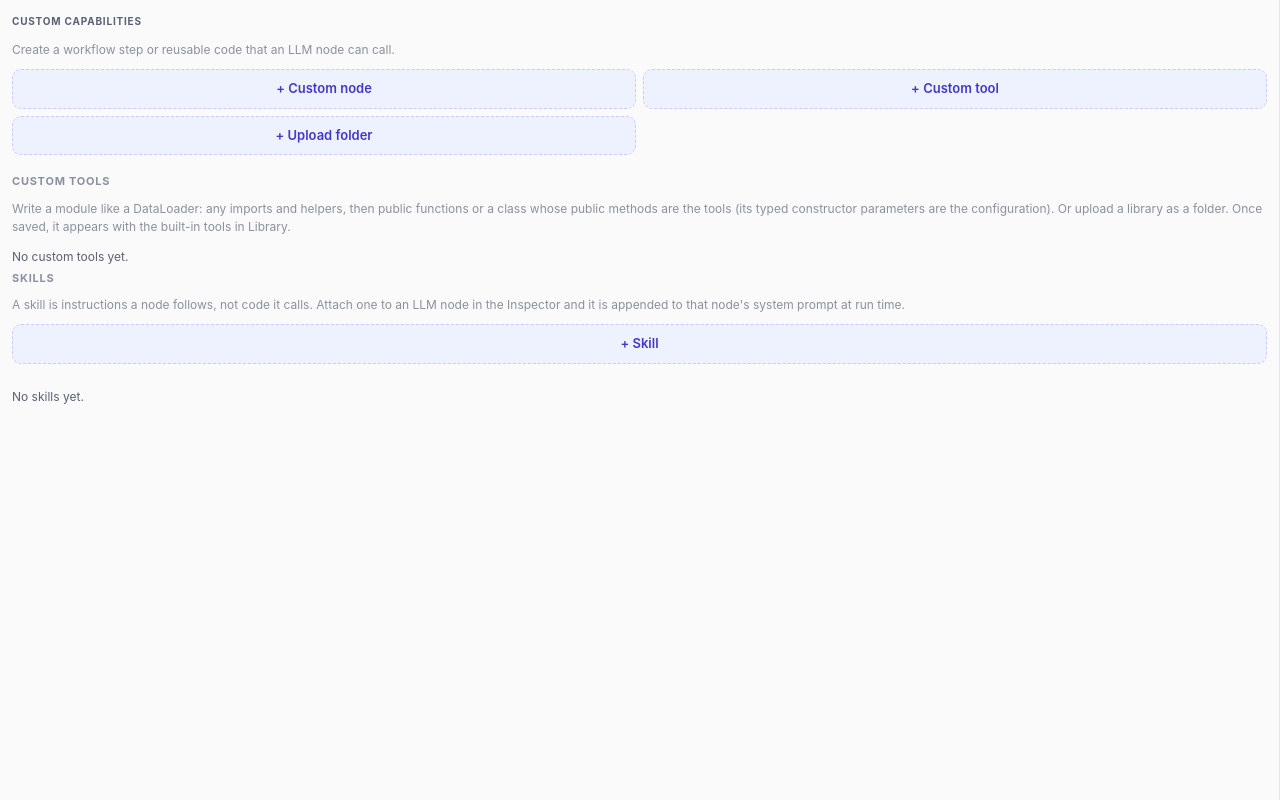
Test case: custom capabilities › offers both a custom node and a custom tool
Click the button "+ Custom node" at coordinates (324, 89), box [12,69,636,108]
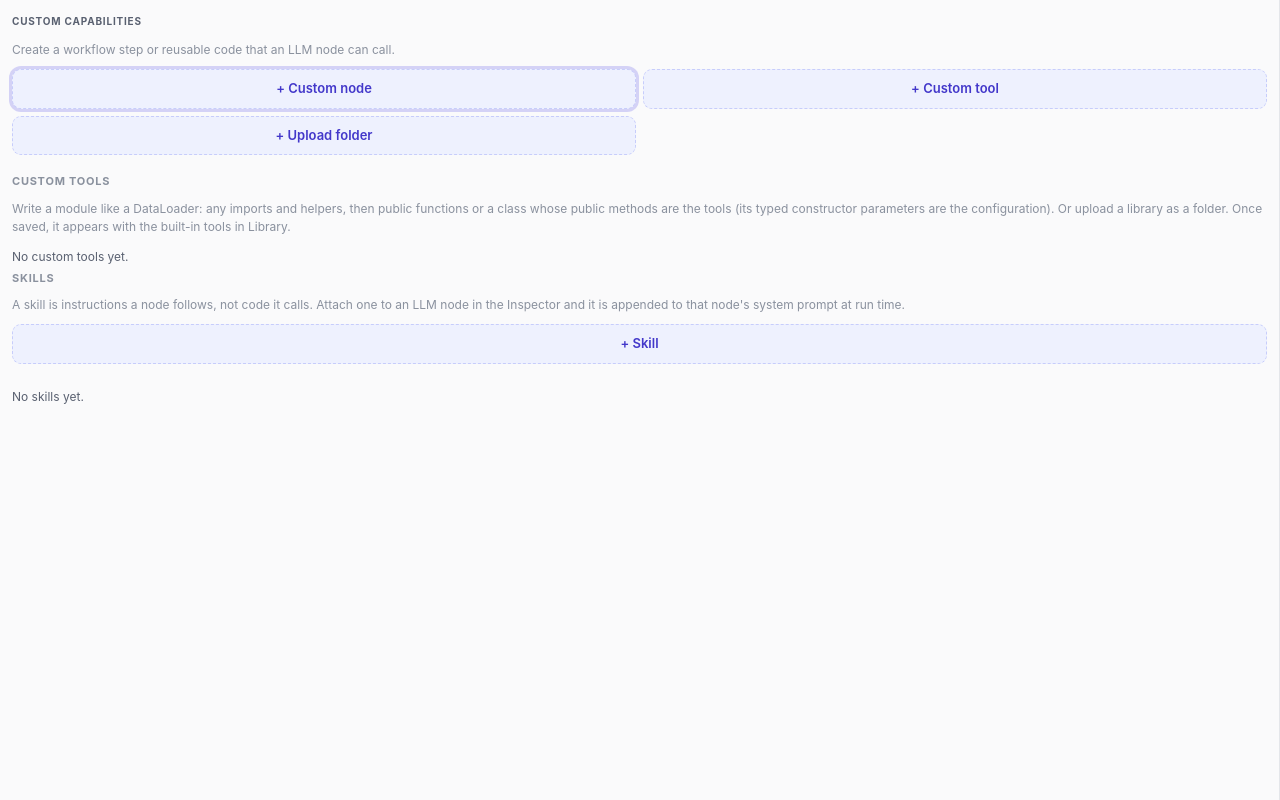
Click the button "+ Custom tool" at coordinates (955, 89), box [643,69,1267,108]
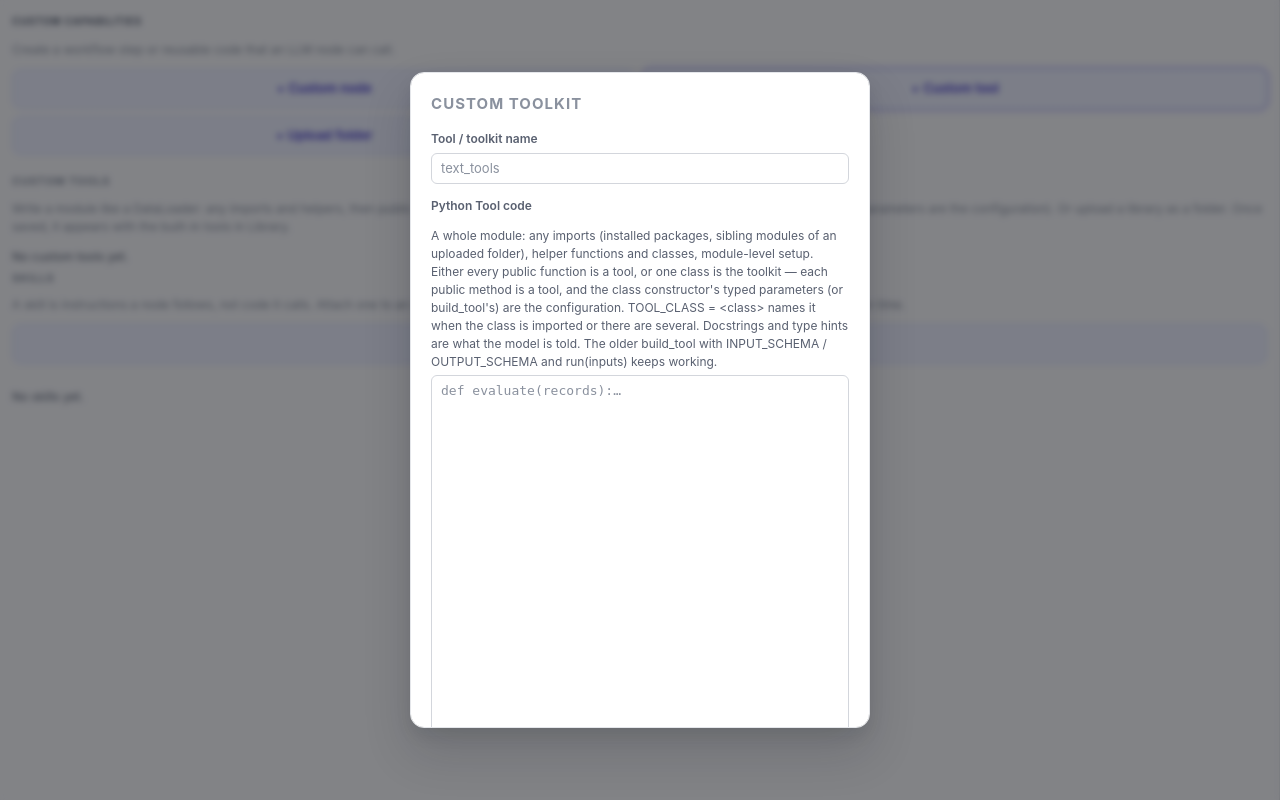
Result: the heading "Custom toolkit" is shown at [431,94,582,113]
